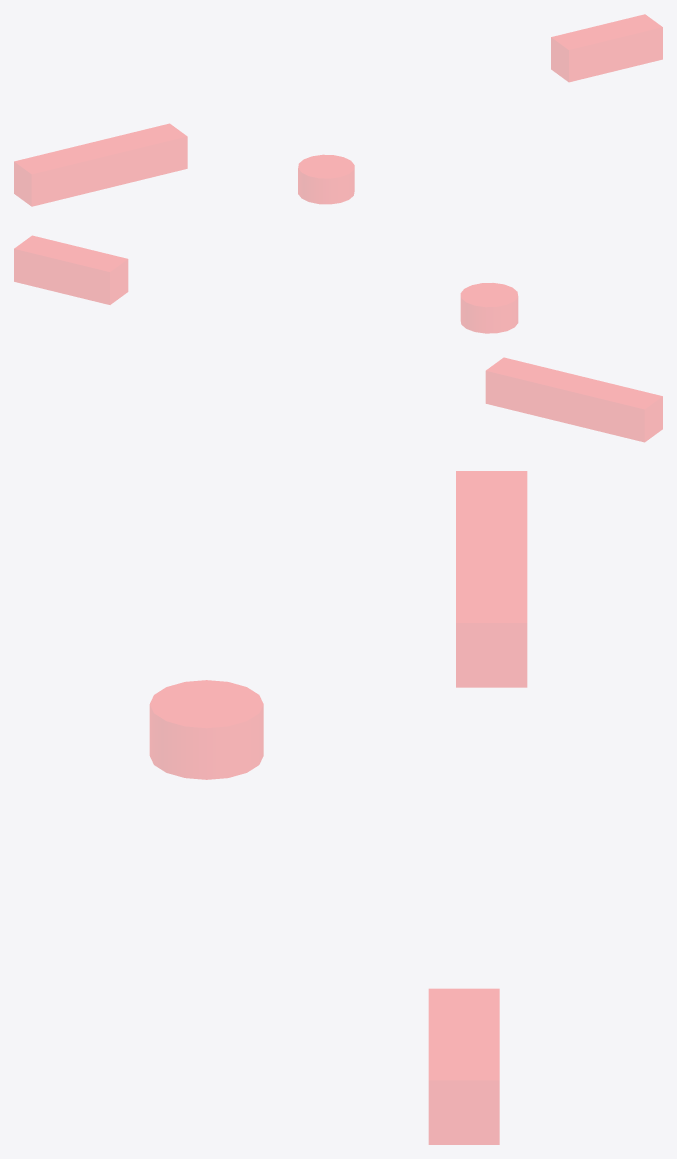
The model's file is s01b_ga1-obstacles.glb.
3 renders of one model, top to bottom at view 1: azimuth 30°, elevation 25°; view 2: azimuth 150°, elevation 25°; view 3: azimuth 270°, elevation 25°, orthographic. The views are drawn at different scales.
Visible parts, largest first — view 1: boulder-colonly (×3); view 2: boulder-colonly (×3); view 3: boulder-colonly (×3).
Part boxes in pixels (<box>): boulder-colonly (×3): <box>14,14,662,206</box>; boulder-colonly (×3): <box>14,236,662,441</box>; boulder-colonly (×3): <box>150,471,526,1144</box>.
Bounding box in the file's own units: 40.47 × 2 × 10.6.
